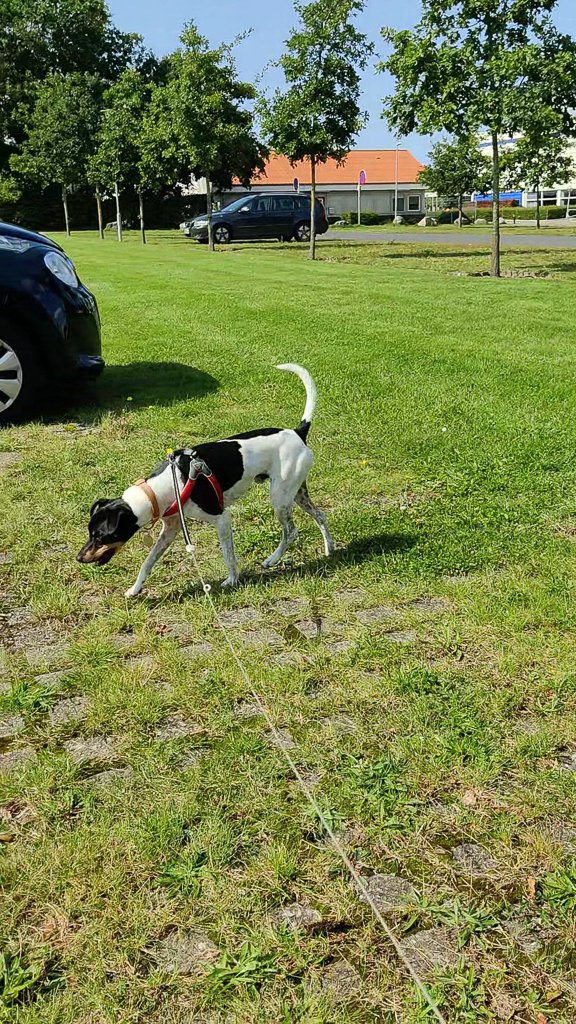Dog: (67, 342, 341, 613)
